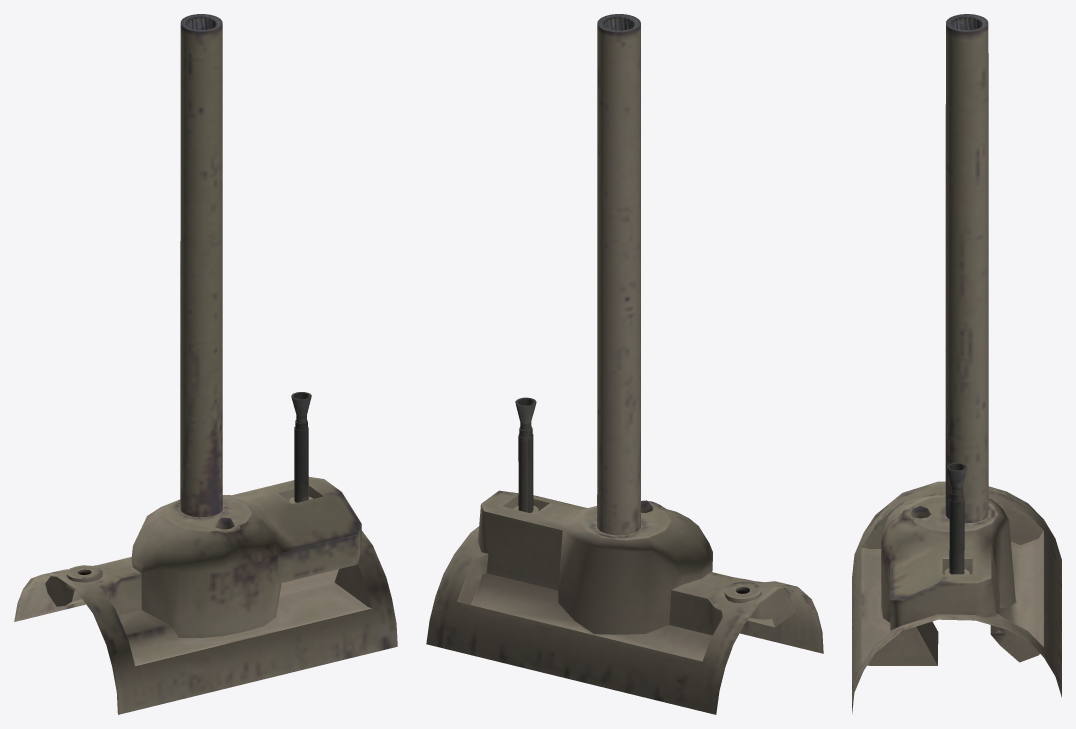
File: Gun_02.glb
3 views of the same model, side by side, from view 1: azimuth 30°, elevation 25°; view 2: azimuth 150°, elevation 25°; view 3: azimuth 270°, elevation 25° (orthographic). The views are drawn at different scales.
Parts seen in each view (by area): view 1: set_0_group_0; view 2: set_0_group_0; view 3: set_0_group_0.
Part boxes in pixels (left/top/right/bottom): set_0_group_0: left=14, top=14, right=397, bottom=714; set_0_group_0: left=426, top=14, right=823, bottom=714; set_0_group_0: left=852, top=14, right=1061, bottom=713.
Bounding box in the file's own units: 0.784 × 1.65 × 0.5032.
1 material, 1 textured.
